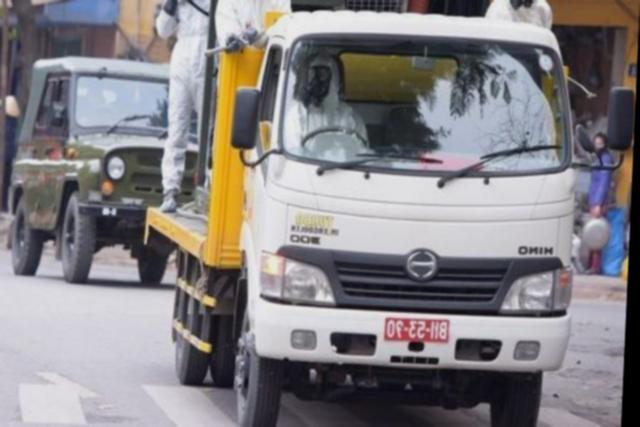License_Plate: (384, 316, 452, 341)
